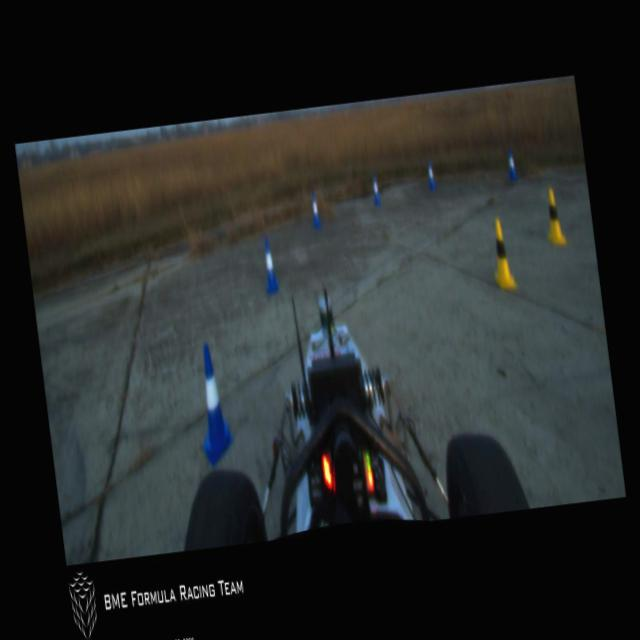blue_cone: (190, 342, 236, 466), (259, 236, 279, 294), (308, 193, 322, 230), (424, 158, 436, 190), (506, 148, 518, 180), (371, 173, 382, 205)
yellow_cone: (487, 217, 518, 291), (541, 184, 567, 248)
